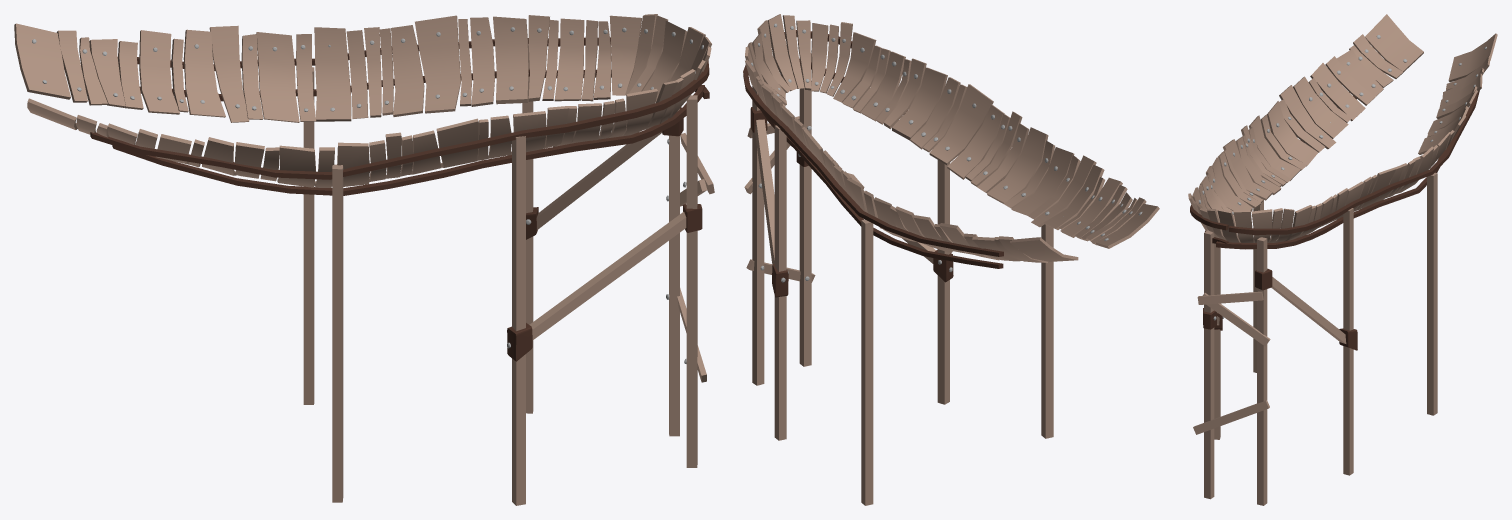
File: u_ramp.fbx
The picture shows the model from 3 angles, left to right: view 1: azimuth 30°, elevation 25°; view 2: azimuth 150°, elevation 25°; view 3: azimuth 270°, elevation 25°; orthographic projection. The views are drawn at different scales.
Parts seen in each view (by area): view 1: wood_planks1; view 2: wood_planks1; view 3: wood_planks1.
Part boxes in pixels (left/top/right/bottom): wood_planks1: left=14, top=14, right=714, bottom=505; wood_planks1: left=743, top=14, right=1159, bottom=505; wood_planks1: left=1188, top=14, right=1497, bottom=505.
Bounding box in the file's own units: 2178 × 1497 × 1416.
